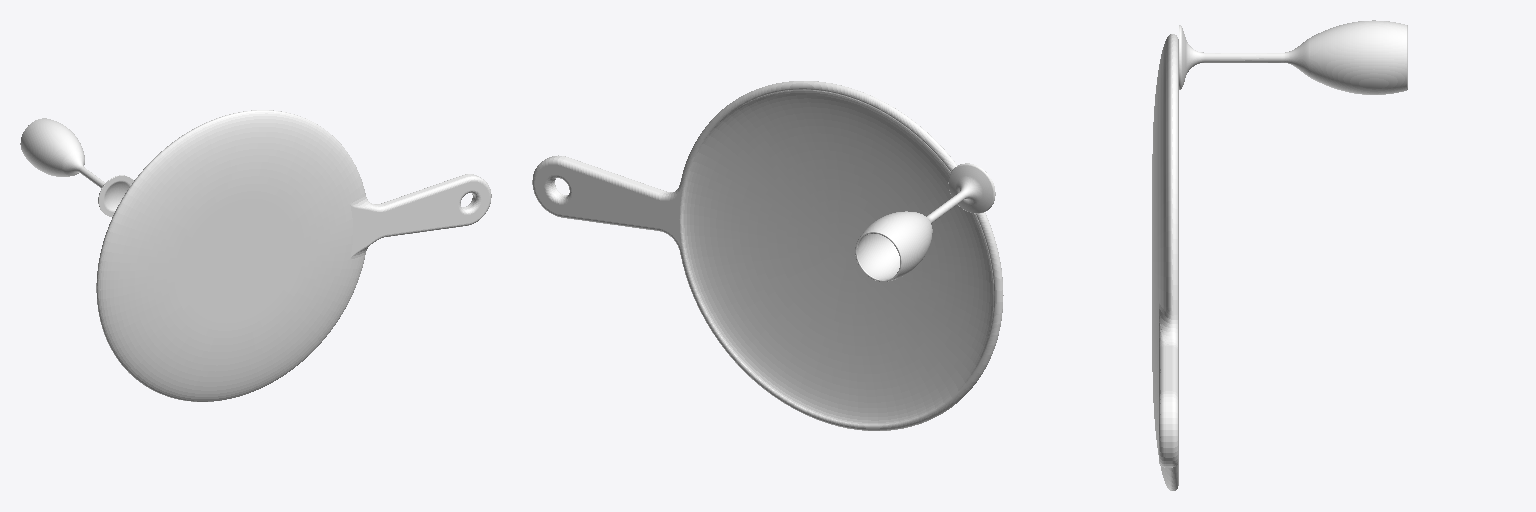
robot.urdf — fetch_arm:
<robot name="fetch_arm">
  <link name="base">
    <inertial>
      <origin rpy="0 0 0" xyz="0 0 0" />
      <mass value="0" />
      <inertia ixx="0" ixy="0.0" ixz="0" iyy="0" iyz="0" izz="0" />
    </inertial>
    <visual>
      <origin rpy="0 0 0" xyz="-0.1195 0 -0.3486" />
      <geometry>
        <mesh filename="fetch_description/meshes/torso_lift_link_collision.STL" />
      </geometry>
      <material name="">
        <color rgba="1 1 1 1" />
      </material>
    </visual>
  </link>
  <joint name="shoulder_pan_joint" type="revolute">
    <origin rpy="0 0 0" xyz="0 0 0" />
    <parent link="base" />
    <child link="shoulder_pan_link" />
    <axis xyz="0 0 1" />
    <dynamics damping="1.0" />
    <limit effort="33.82" lower="-1.6056" upper="1.6056" velocity="1.256" />
  </joint>
  <link name="shoulder_pan_link">
    <inertial>
      <origin rpy="0 0 0" xyz="0.0927 -0.0056 0.0564" />
      <mass value="2.5587" />
      <inertia ixx="0.0043" ixy="-0.0001" ixz="0.001" iyy="0.0087" iyz="-0.0001" izz="0.0087" />
    </inertial>
    <visual>
      <origin rpy="0 0 0" xyz="0 0 0" />
      <geometry>
        <mesh filename="fetch_description/meshes/shoulder_pan_link_collision.STL" />
      </geometry>
      <material name="">
        <color rgba="1 1 1 1" />
      </material>
    </visual>
  </link>
  <joint name="shoulder_lift_joint" type="revolute">
    <origin rpy="0 0 0" xyz="0.117 0 0.0599999999999999" />
    <parent link="shoulder_pan_link" />
    <child link="shoulder_lift_link" />
    <axis xyz="0 1 0" />
    <dynamics damping="1.0" />
    <limit effort="131.76" lower="-1.221" upper="1.518" velocity="1.454" />
  </joint>
  <link name="shoulder_lift_link">
    <inertial>
      <origin rpy="0 0 0" xyz="0.1432 0.0072 -0.0001" />
      <mass value="2.6615" />
      <inertia ixx="0.0028" ixy="-0.0021" ixz="-0.0" iyy="0.0111" iyz="-0.0" izz="0.0112" />
    </inertial>
    <visual>
      <origin rpy="0 0 0" xyz="0 0 0" />
      <geometry>
        <mesh filename="fetch_description/meshes/shoulder_lift_link_collision.STL" />
      </geometry>
      <material name="">
        <color rgba="0.086 0.506 0.767 1" />
      </material>
    </visual>
  </link>
  <joint name="upperarm_roll_joint" type="continuous">
    <origin rpy="0 0 0" xyz="0.219 0 0" />
    <parent link="shoulder_lift_link" />
    <child link="upperarm_roll_link" />
    <axis xyz="1 0 0" />
    <dynamics damping="5.0" />
    <limit effort="76.94" velocity="1.571" />
  </joint>
  <link name="upperarm_roll_link">
    <inertial>
      <origin rpy="0 0 0" xyz="0.1165 0.0014 0.0000" />
      <mass value="2.3311" />
      <inertia ixx="0.0019" ixy="-0.0001" ixz="0.0" iyy="0.0045" iyz="0.0" izz="0.0047" />
    </inertial>
    <visual>
      <origin rpy="0 0 0" xyz="0 0 0" />
      <geometry>
        <mesh filename="fetch_description/meshes/upperarm_roll_link_collision.STL" />
      </geometry>
      <material name="">
        <color rgba="1 1 1 1" />
      </material>
    </visual>
  </link>
  <joint name="elbow_flex_joint" type="revolute">
    <origin rpy="0 0 0" xyz="0.133 0 0" />
    <parent link="upperarm_roll_link" />
    <child link="elbow_flex_link" />
    <axis xyz="0 1 0" />
    <dynamics damping="1.0" />
    <limit effort="66.18" lower="-2.251" upper="2.251" velocity="1.521" />
  </joint>
  <link name="elbow_flex_link">
    <inertial>
      <origin rpy="0 0 0" xyz="0.1279 0.0073 0.0000" />
      <mass value="2.1299" />
      <inertia ixx="0.0024" ixy="-0.0016" ixz="0.0" iyy="0.0082" iyz="-0.0" izz="0.0084" />
    </inertial>
    <visual>
      <origin rpy="0 0 0" xyz="0 0 0" />
      <geometry>
        <mesh filename="fetch_description/meshes/elbow_flex_link_collision.STL" />
      </geometry>
      <material name="">
        <color rgba="0.086 0.506 0.767 1" />
      </material>
    </visual>
  </link>
  <joint name="forearm_roll_joint" type="continuous">
    <origin rpy="0 0 0" xyz="0.197 0 0" />
    <parent link="elbow_flex_link" />
    <child link="forearm_roll_link" />
    <axis xyz="1 0 0" />
    <dynamics damping="5.0" />
    <limit effort="29.35" velocity="1.571" />
  </joint>
  <link name="forearm_roll_link">
    <inertial>
      <origin rpy="0 0 0" xyz="0.1097 -0.0266 0.0000" />
      <mass value="1.6563" />
      <inertia ixx="0.0016" ixy="-0.0003" ixz="0.0" iyy="0.003" iyz="-0.0" izz="0.0035" />
    </inertial>
    <visual>
      <origin rpy="0 0 0" xyz="0 0 0" />
      <geometry>
        <mesh filename="fetch_description/meshes/forearm_roll_link_collision.STL" />
      </geometry>
      <material name="">
        <color rgba="1 1 1 1" />
      </material>
    </visual>
  </link>
  <joint name="wrist_flex_joint" type="revolute">
    <origin rpy="0 0 0" xyz="0.1245 0 0" />
    <parent link="forearm_roll_link" />
    <child link="wrist_flex_link" />
    <axis xyz="0 1 0" />
    <dynamics damping="1.0" />
    <limit effort="25.7" lower="-2.16" upper="2.16" velocity="2.268" />
  </joint>
  <link name="wrist_flex_link">
    <inertial>
      <origin rpy="0 0 0" xyz="0.0882 0.0009 -0.0001" />
      <mass value="1.725" />
      <inertia ixx="0.0018" ixy="-0.0001" ixz="-0.0" iyy="0.0042" iyz="0.0" izz="0.0042" />
    </inertial>
    <visual>
      <origin rpy="0 0 0" xyz="0 0 0" />
      <geometry>
        <mesh filename="fetch_description/meshes/wrist_flex_link_collision.STL" />
      </geometry>
      <material name="">
        <color rgba="0.086 0.506 0.767 1" />
      </material>
    </visual>
  </link>


  <joint name="wrist_roll_joint" type="continuous">
    <origin rpy="0 0 0" xyz="0.1385 0 0" />
    <parent link="wrist_flex_link" />
    <child link="wrist_roll_link" />
    <axis xyz="1 0 0" />
  </joint>
  <link name="wrist_roll_link">
    <inertial>
      <origin rpy="0 0 0" xyz="0.0095 0.0004 -0.0002" />
      <mass value="0.1354" />
      <inertia ixx="0.0001" ixy="0.0" ixz="0.0" iyy="0.0001" iyz="0.0" izz="0.0001" />
    </inertial>
    <visual>
      <origin rpy="0 0 0" xyz="0 0 0" />
      <geometry>
        <mesh filename="fetch_description/meshes/wrist_roll_link_collision.STL" />
      </geometry>
      <material name="">
        <color rgba="1 1 1 1" />
      </material>
    </visual>
  </link>
  <joint name="gripper_axis" type="fixed">
    <origin rpy="0 0 0" xyz="0.16645 0 0" />
    <parent link="wrist_roll_link" />
    <child link="gripper_link" />
  </joint>
  <link name="gripper_link">
    <inertial>
      <origin rpy="0 0 0" xyz="-0.0900 -0.0001 -0.0017" />
      <mass value="1.5175" />
      <inertia ixx="0.0013" ixy="-0.0" ixz="0.0" iyy="0.0019" iyz="-0.0" izz="0.0024" />
    </inertial>
    <visual>
      <origin rpy="0 0 0" xyz="0 0 0" />
      <geometry>
        <mesh filename="fetch_description/meshes/gripper_link_collision.STL" />
      </geometry>
    </visual>
  </link>

<!--   <joint name="r_gripper_finger_joint" type="fixed">
    <origin rpy="0 0 0" xyz="0 0.015425 0" />
    <parent link="gripper_link" />
    <child link="r_gripper_finger_link" />
  </joint>

  <link name="r_gripper_finger_link">
    <inertial>
      <origin rpy="0 0 0" xyz="-0.01 0 0" />
      <mass value="0.0798" />
      <inertia ixx="0.002" ixy="0" ixz="0" iyy="0" iyz="0" izz="0" />
    </inertial>
    <visual>
      <origin rpy="0 0 0" xyz="0 0.101425 0" />
      <geometry>
        <mesh filename="fetch_description/meshes/r_gripper_finger_link.STL" />
      </geometry>
      <material name="">
        <color rgba="0.356 0.361 0.376 1" />
      </material>
    </visual>
  </link>

  <joint name="l_gripper_finger_joint" type="fixed">
    <origin rpy="0 0 0" xyz="0 -0.015425 0" />
    <parent link="gripper_link" />
    <child link="l_gripper_finger_link" />
  </joint>

  <link name="l_gripper_finger_link">
    <inertial>
      <origin rpy="0 0 0" xyz="-0.01 0 0" />
      <mass value="0.0798" />
      <inertia ixx="0.002" ixy="0" ixz="0" iyy="0" iyz="0" izz="0" />
    </inertial>
    <visual>
      <origin rpy="0 0 0" xyz="0 -0.101425 0" />
      <geometry>
        <mesh filename="fetch_description/meshes/l_gripper_finger_link.STL" />
      </geometry>
      <material name="">
        <color rgba="0.356 0.361 0.376 1" />
      </material>
    </visual>
  </link> -->

  <joint name="platter_joint" type="fixed">
    <origin rpy="0 0 0" xyz="0 0 0" />
    <parent link="gripper_link" />
    <child link="platter_link" />
  </joint>

  <link name="platter_link">
    <inertial>
      <origin rpy="0 0 0" xyz="0 0 0" />
      <mass value="0" />
      <inertia ixx="0" ixy="0" ixz="0" iyy="0" iyz="0" izz="0" />
    </inertial>
    <visual>
      <!-- <origin rpy="0 1.5708 0" xyz="-0.175 0 0.45"/> -->
      <origin rpy="0 0 0" xyz="0 0 0"/>
      <geometry>
        <mesh filename="fetch_description/meshes/ServePlatter.STL" scale="0.001 0.001 0.001"/>
      </geometry>
      <material name="">
        <color rgba="1 1 1 1" />
      </material>
    </visual>
  </link>

  <joint name="glass_joint" type="fixed">
    <origin rpy="0 0 0" xyz="0 0.02 0.25" />
    <parent link="platter_link" />
    <child link="glass_link" />
  </joint>

  <link name="glass_link">
    <inertial>
      <origin rpy="0 0 0" xyz="0 0 0" />
      <mass value="0" />
      <inertia ixx="0" ixy="0" ixz="0" iyy="0" iyz="0" izz="0" />
    </inertial>
    <visual>
<!--       <origin rpy="0 1.5708 0" xyz="-0.03 0 0.03"/> -->
      <origin rpy="0 0 0" xyz="0 0 0"/>
      <geometry>
        <mesh filename="fetch_description/meshes/Glass.STL" scale="0.001 0.001 0.001"/>
      </geometry>
      <material name="">
        <color rgba="1 1 1 1" />
      </material>
    </visual>
  </link>

</robot>

--- What the picture shows (computed from the rendered views, not written in the file) ---
3 views of the same robot in one strip: view 1: azimuth 30°, elevation 25°; view 2: azimuth 150°, elevation 25°; view 3: azimuth 270°, elevation 25° (orthographic).
Robot: fetch_arm — 11 links, 10 joints (4 revolute, 3 continuous, 3 fixed); root link base; default pose: all joints at 0.
Visible links, largest first — view 1: platter_link, glass_link; view 2: platter_link, glass_link; view 3: platter_link, glass_link.
Boxes of the visible links, x1,y1,x2,y2 form: platter_link: (96,110,491,401); glass_link: (20,118,133,216); platter_link: (532,81,1003,430); glass_link: (855,163,995,281); platter_link: (1152,34,1178,490); glass_link: (1179,20,1407,94).
Bounding box of the posed robot: 0.5049 × 0.195 × 0.35 m (x, y, z).
Meshes: 11 distinct files referenced, 2 mesh visuals loaded (2 binary STL); not drawn: 9 (reference not matched to a file when rendering).